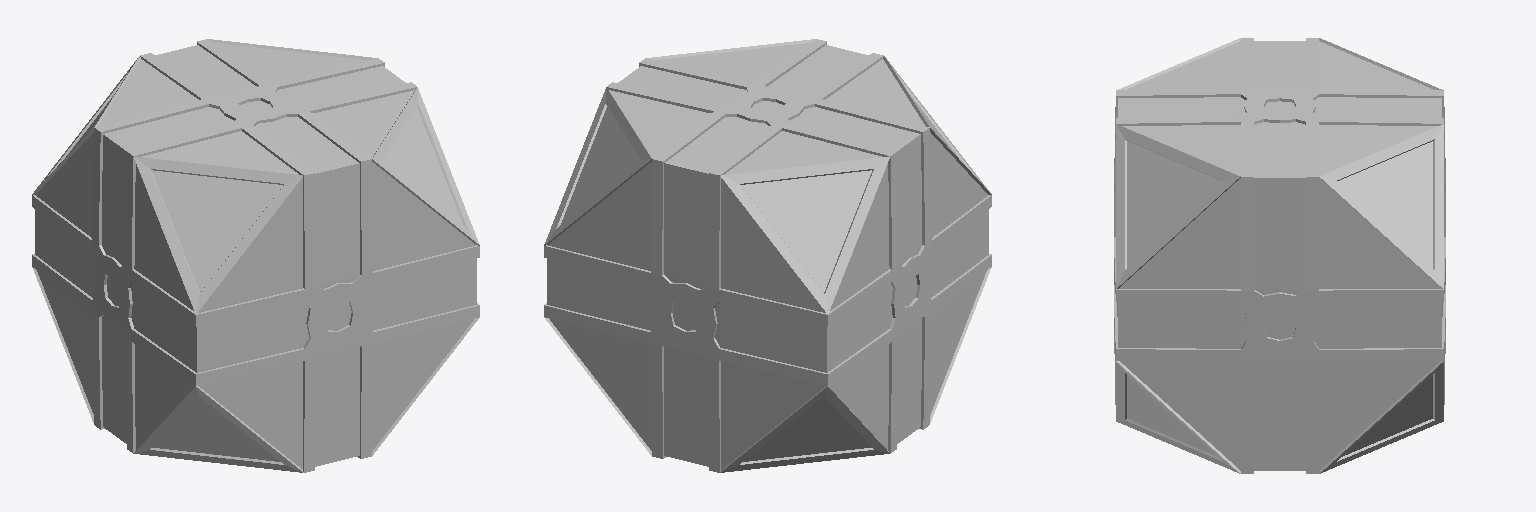
The model's file is infinite_water_block.obj.
3 renders of one model, left to right at view 1: azimuth 30°, elevation 25°; view 2: azimuth 150°, elevation 25°; view 3: azimuth 270°, elevation 25°, orthographic.
Visible parts, largest first — view 1: Plane.001_Plane.011, Plane.000_Plane.002; view 2: Plane.001_Plane.011, Plane.000_Plane.002; view 3: Plane.001_Plane.011, Plane.000_Plane.002.
Part boxes in pixels (left/top/right/bottom): Plane.001_Plane.011: left=35, top=43, right=476, bottom=469; Plane.000_Plane.002: left=32, top=39, right=479, bottom=472; Plane.001_Plane.011: left=547, top=43, right=988, bottom=469; Plane.000_Plane.002: left=544, top=39, right=991, bottom=472; Plane.001_Plane.011: left=1117, top=41, right=1442, bottom=470; Plane.000_Plane.002: left=1114, top=38, right=1445, bottom=473.
Bounding box in the file's own units: 1.01 × 1.01 × 1.01.